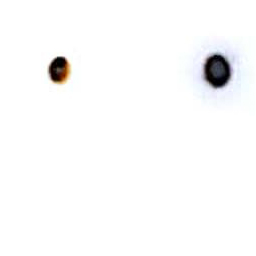cancer: (178, 34, 247, 103)
normal: (38, 49, 89, 98)
